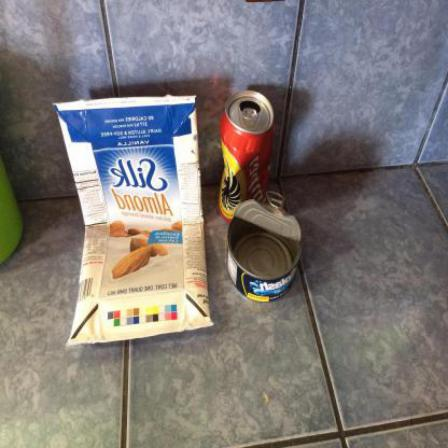Can: (228, 192, 304, 303), (218, 91, 277, 225)
Carton: (54, 96, 214, 347)
Pop tab: (267, 192, 286, 210), (244, 109, 259, 120)
